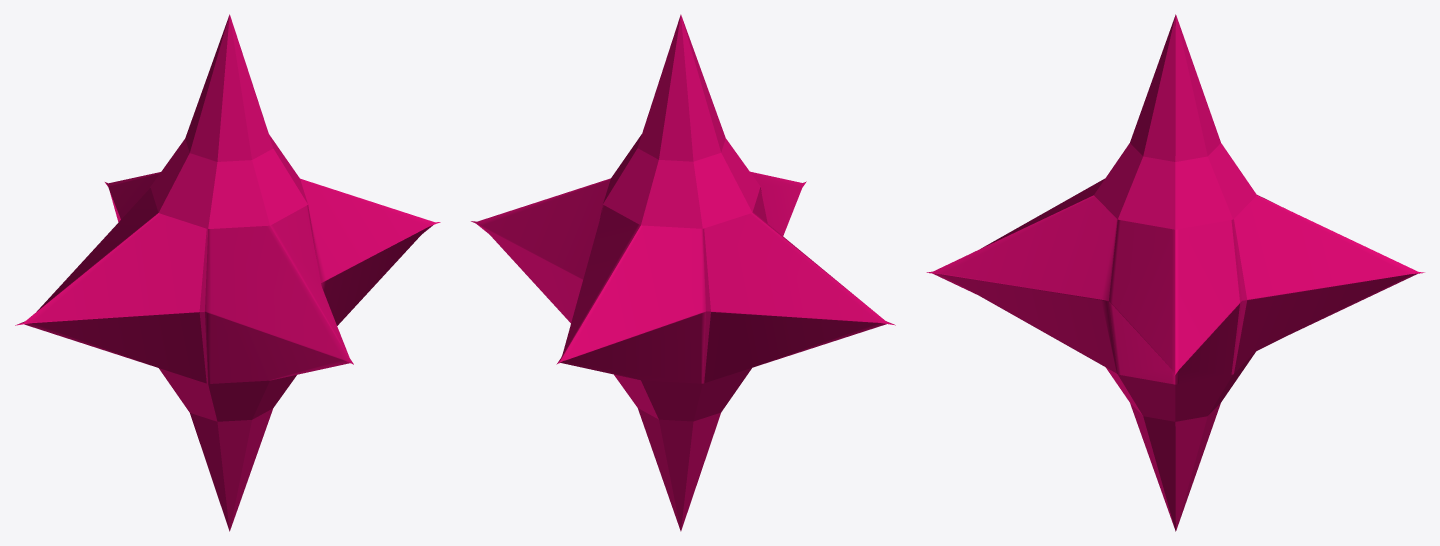
File: LightObj_R.gltf
The picture shows the model from 3 angles, left to right: view 1: azimuth 30°, elevation 25°; view 2: azimuth 150°, elevation 25°; view 3: azimuth 270°, elevation 25°; orthographic projection.
Visible parts, largest first — view 1: LightObj_G; view 2: LightObj_G; view 3: LightObj_G.
Part boxes in pixels (x1,y1,x2,y2): LightObj_G: (15, 14, 440, 531); LightObj_G: (471, 14, 895, 531); LightObj_G: (926, 14, 1424, 531).
Size of the model in its own units: 5.23 by 6.06 by 5.31.
